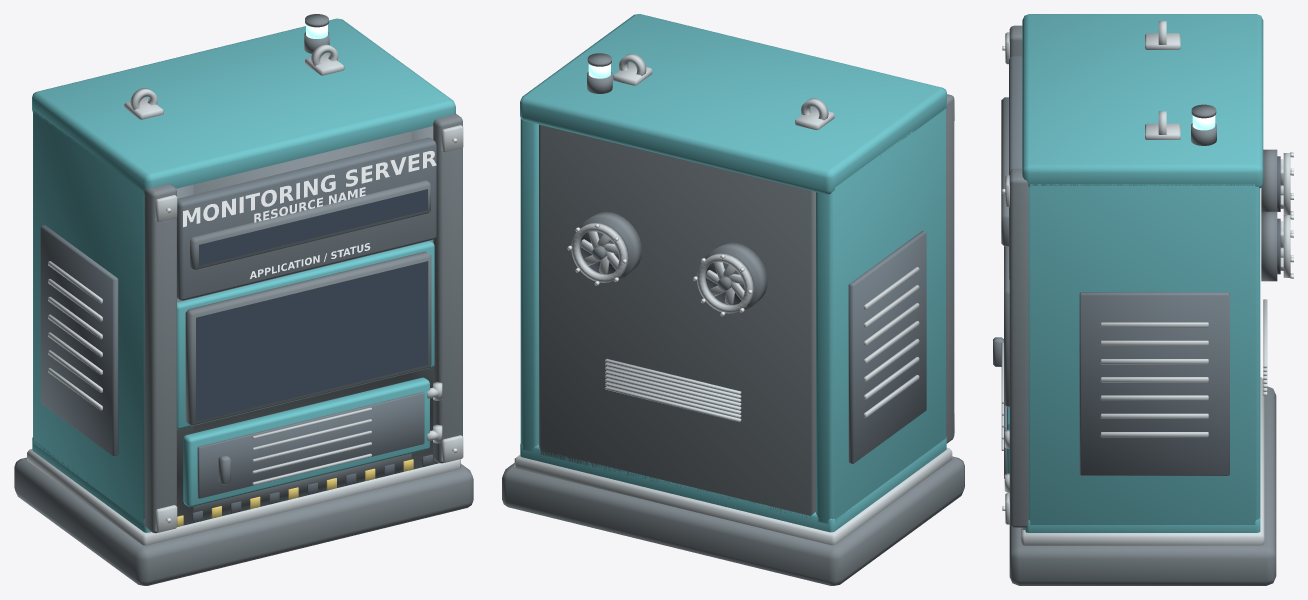
File: monitoring_server_enhanced.glb
The picture shows the model from 3 angles, left to right: view 1: azimuth 30°, elevation 25°; view 2: azimuth 150°, elevation 25°; view 3: azimuth 270°, elevation 25°; orthographic projection. The views are drawn at different scales.
Parts seen in each view (by area): view 1: Roof_teal, LiveViewSurface_glass, SideWall_teal, Skid_frame, CornerPost_frame, FrontHeader_graphite, SideServicePanel_graphite, DoorMoving_Inset_graphite, DoorMoving_Panel_teal, SkidDeck_steel, LiveViewSurfaceFrame_frame, ResourceNameSurface_glass (+15 smaller); view 2: BackWall_frame, Roof_teal, SideWall_teal, Skid_frame, SideServicePanel_graphite, SkidDeck_steel, KickPlate_teal, RearFan_steel, RearVent_steel, CornerPost_frame, RearFan_frame, SideLouver_steel (+3 smaller); view 3: SideWall_teal, Roof_teal, SideServicePanel_graphite, Skid_frame, CornerPost_frame, SideLouver_steel, SkidDeck_steel, RearFan_frame, KickPlate_teal, FrontHeader_graphite, RearFan_steel, ResourceNameSurfaceFrame_frame (+7 smaller).
Boxes of the visible parts, x1,y1,x2,y2 form: Roof_teal: [32, 18, 455, 194]; LiveViewSurface_glass: [196, 261, 428, 421]; SideWall_teal: [33, 111, 144, 523]; Skid_frame: [14, 457, 473, 585]; CornerPost_frame: [144, 114, 462, 533]; FrontHeader_graphite: [177, 137, 436, 300]; SideServicePanel_graphite: [40, 225, 118, 456]; DoorMoving_Inset_graphite: [197, 392, 424, 498]; DoorMoving_Panel_teal: [183, 377, 429, 506]; SkidDeck_steel: [27, 449, 460, 545]; LiveViewSurfaceFrame_frame: [185, 251, 431, 425]; ResourceNameSurface_glass: [199, 189, 427, 265]; BackWall_frame: [539, 124, 815, 518]; Roof_teal: [520, 14, 946, 194]; SideWall_teal: [520, 109, 945, 523]; Skid_frame: [502, 456, 964, 585]; SideServicePanel_graphite: [848, 230, 926, 463]; SkidDeck_steel: [514, 447, 952, 545]; KickPlate_teal: [520, 437, 946, 532]; RearFan_steel: [571, 223, 753, 313]; RearVent_steel: [605, 359, 741, 422]; CornerPost_frame: [946, 94, 954, 443]; RearFan_frame: [579, 211, 767, 311]; SideLouver_steel: [864, 267, 919, 417]; SideWall_teal: [1028, 184, 1260, 524]; Roof_teal: [1022, 14, 1263, 188]; SideServicePanel_graphite: [1079, 292, 1229, 475]; Skid_frame: [1009, 386, 1276, 585]; CornerPost_frame: [1009, 25, 1028, 527]; SideLouver_steel: [1100, 322, 1208, 437]; SkidDeck_steel: [1021, 377, 1264, 545]; RearFan_frame: [1261, 149, 1277, 281]; KickPlate_teal: [1025, 518, 1260, 532]; FrontHeader_graphite: [1009, 56, 1022, 279]; RearFan_steel: [1280, 153, 1290, 277]; ResourceNameSurfaceFrame_frame: [1001, 97, 1008, 246].
Size of the model in its own units: 2 by 2.48 by 1.51.
